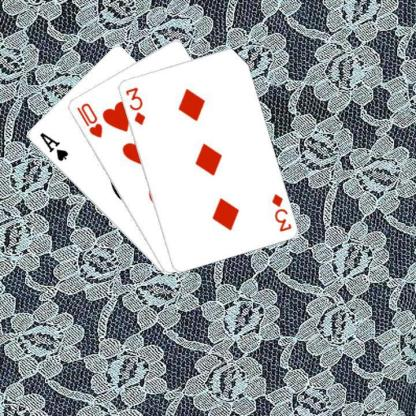10H: (74, 100, 104, 139)
3D: (269, 191, 293, 233), (123, 84, 146, 126)
AS: (36, 130, 70, 163)
